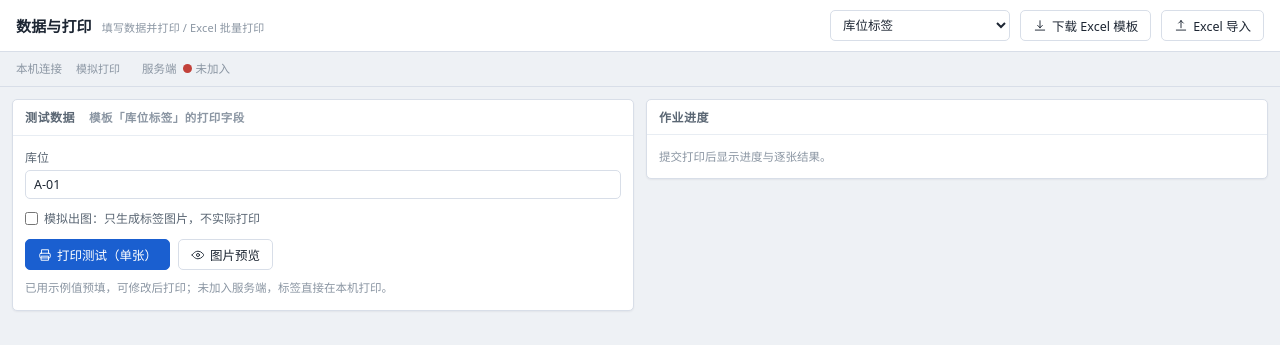
Test: 进度区「作业历史」指引可点击跳转（迭代 85 · #133 C-5） › 本机直连作业（有逐张 items、可重试）：失败提示保持「下方列表逐张重试」，不渲染跳转入口
The width and height of the screenshot is (1280, 345).
Expected: the field showing "A-01" is shown, [25, 170, 621, 199]
Click the button "打印测试（单张）" at (98,255), box [25, 239, 170, 270]
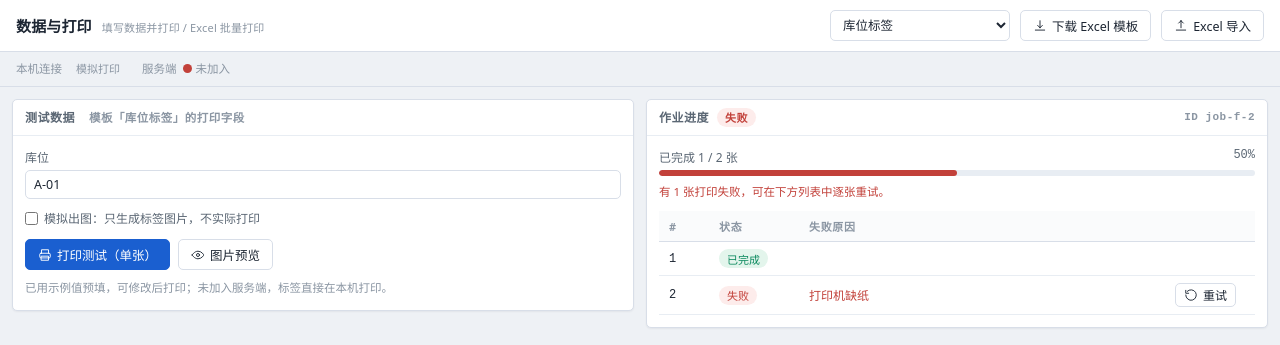
Expected: the text "有 1 张打印失败，可在下方列表中逐张重试。" is shown, [659, 184, 890, 199]
